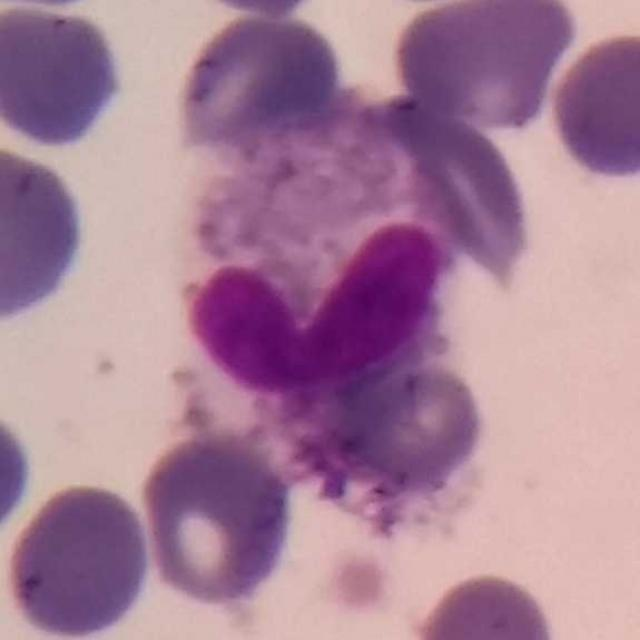Eosinophil: (178, 115, 489, 539)
Platelets: (324, 555, 390, 620)
RBC: (316, 352, 510, 530), (170, 6, 356, 177), (377, 94, 539, 280), (136, 430, 298, 610), (387, 0, 582, 135), (1, 477, 156, 640), (2, 2, 132, 155), (0, 139, 95, 334), (544, 25, 640, 186), (408, 567, 560, 640), (0, 401, 39, 553), (185, 0, 335, 20)
